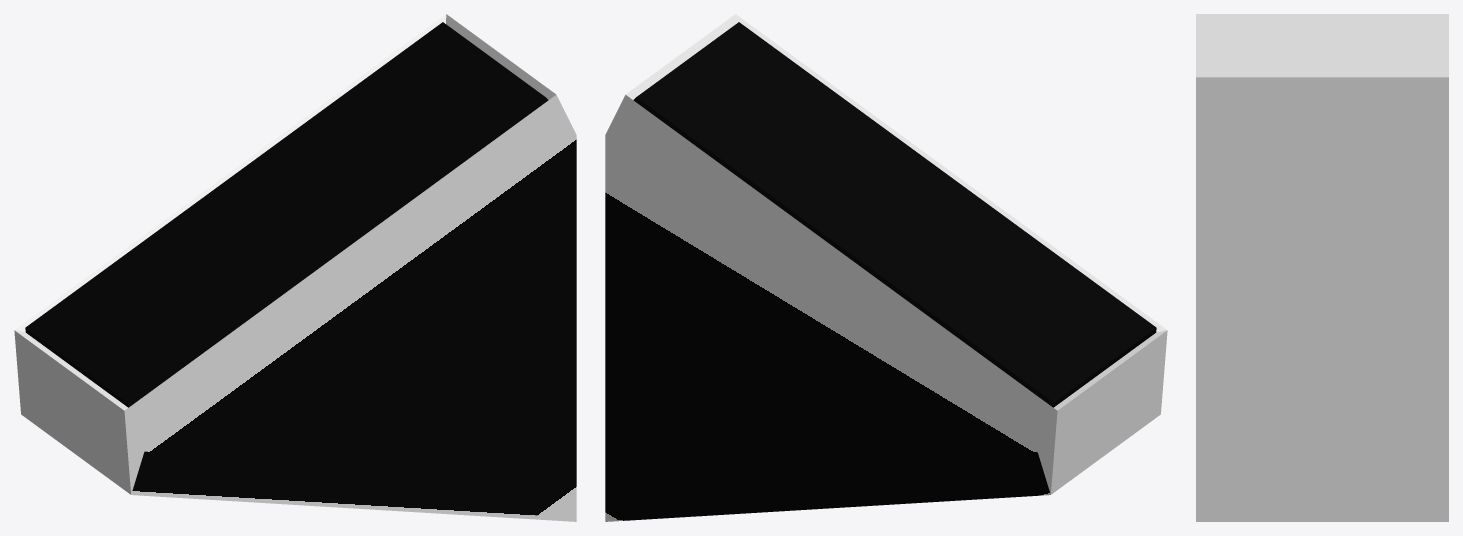
Rendered from Authentication.fbx.
The picture shows the model from 3 angles, left to right: view 1: azimuth 30°, elevation 25°; view 2: azimuth 150°, elevation 25°; view 3: azimuth 270°, elevation 25°; orthographic projection. The views are drawn at different scales.
Visible parts, largest first — view 1: Authentication; view 2: Authentication; view 3: Authentication.
Part boxes in pixels (x1,y1,x2,y2): Authentication: (14, 14, 576, 521); Authentication: (605, 14, 1167, 521); Authentication: (1196, 14, 1448, 521).
Size of the model in its own units: 0.2371 by 0.2167 by 0.1.
